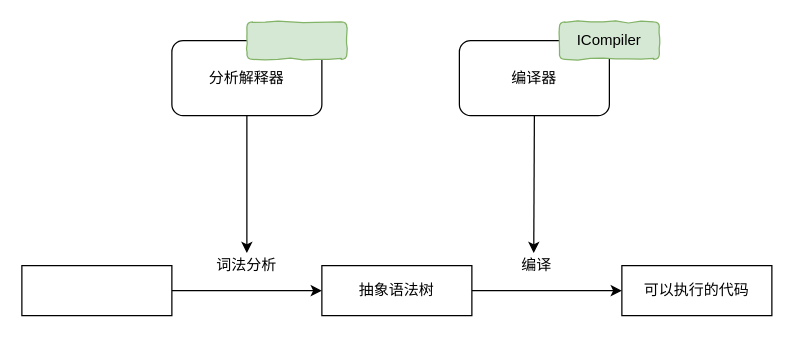
Some shapes in this 794 by 338 pixel diagram are drawn without their labels. The centre of each missing label's shape, as x and y in pixels:
"IParser" belongs at pixel 296 40.
"字符串" belongs at pixel 96 290.
